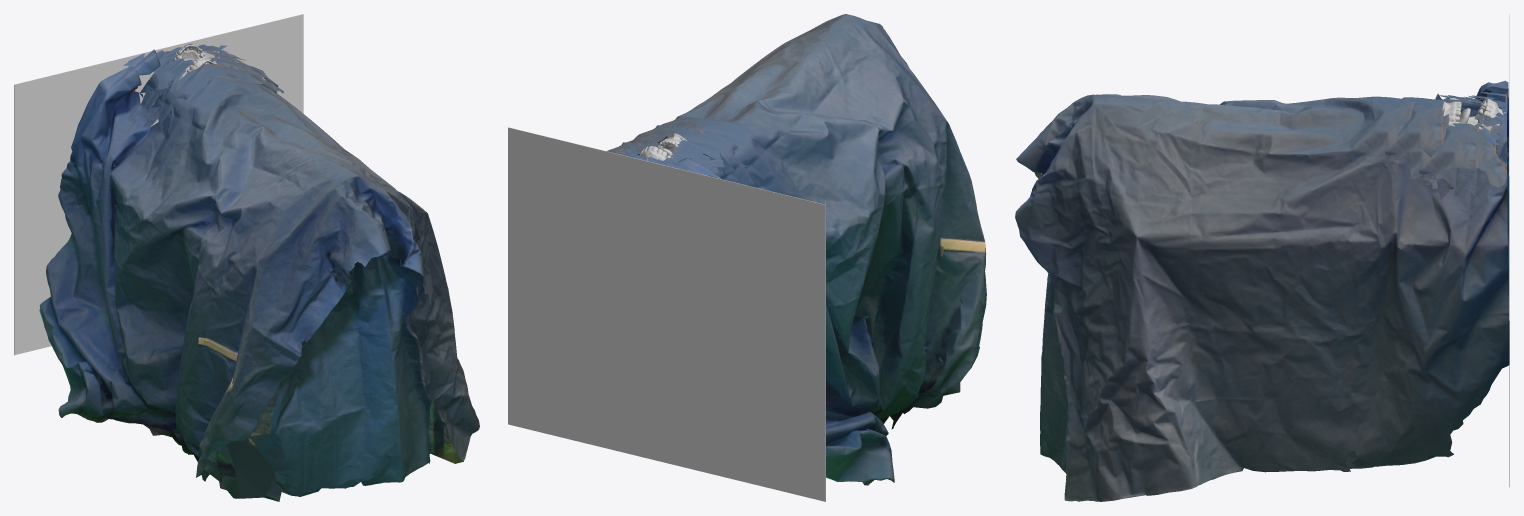
File: PatientCover.gltf
3 views of the same model, side by side, from view 1: azimuth 30°, elevation 25°; view 2: azimuth 150°, elevation 25°; view 3: azimuth 270°, elevation 25° (orthographic). The views are drawn at different scales.
Visible parts, largest first — view 1: Object_2, Cube; view 2: Cube, Object_2; view 3: Object_2, mouth_0.
Boxes of the visible parts, x1,y1,x2,y2 form: Object_2: [39, 44, 479, 501]; Cube: [14, 14, 303, 355]; Cube: [508, 127, 825, 501]; Object_2: [606, 14, 986, 485]; Object_2: [1015, 80, 1509, 501]; mouth_0: [1442, 101, 1505, 130].
Bounding box in the file's own units: 1.38 × 1.4 × 1.71.
